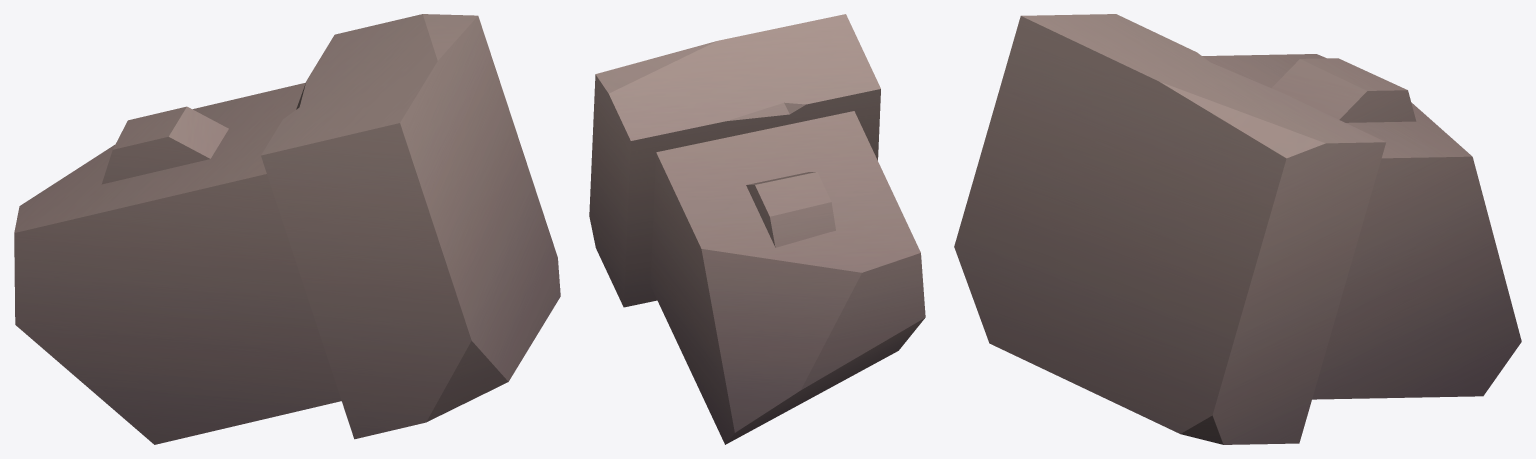
The model's file is fenceAPillar8.glb.
The picture shows the model from 3 angles, left to right: view 1: azimuth 30°, elevation 25°; view 2: azimuth 150°, elevation 25°; view 3: azimuth 270°, elevation 25°; orthographic projection. The views are drawn at different scales.
Parts seen in each view (by area): view 1: fenceAPillar8; view 2: fenceAPillar8; view 3: fenceAPillar8.
Boxes of the visible parts, x1,y1,x2,y2 form: fenceAPillar8: (14,14,560,444); fenceAPillar8: (589,14,925,444); fenceAPillar8: (954,14,1521,444).
Size of the model in its own units: 1.04 by 0.7974 by 0.9963.
Materials: 1 (1 with a texture image).
